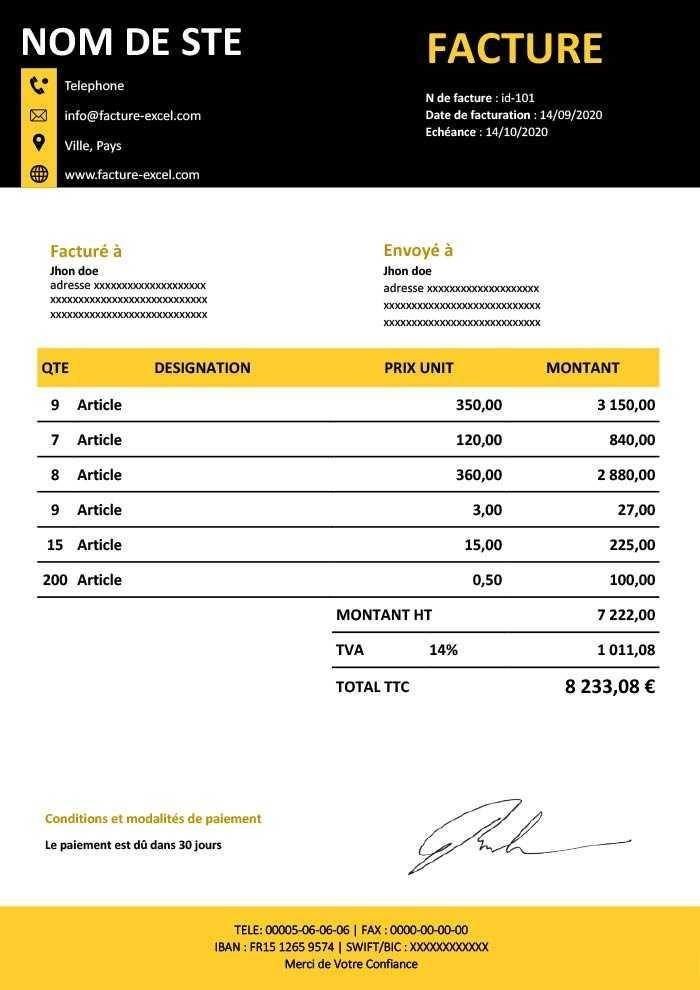ROI: (41, 359, 658, 589), (16, 16, 252, 187), (334, 607, 657, 697), (48, 240, 212, 321), (418, 89, 612, 148), (41, 808, 281, 854)
